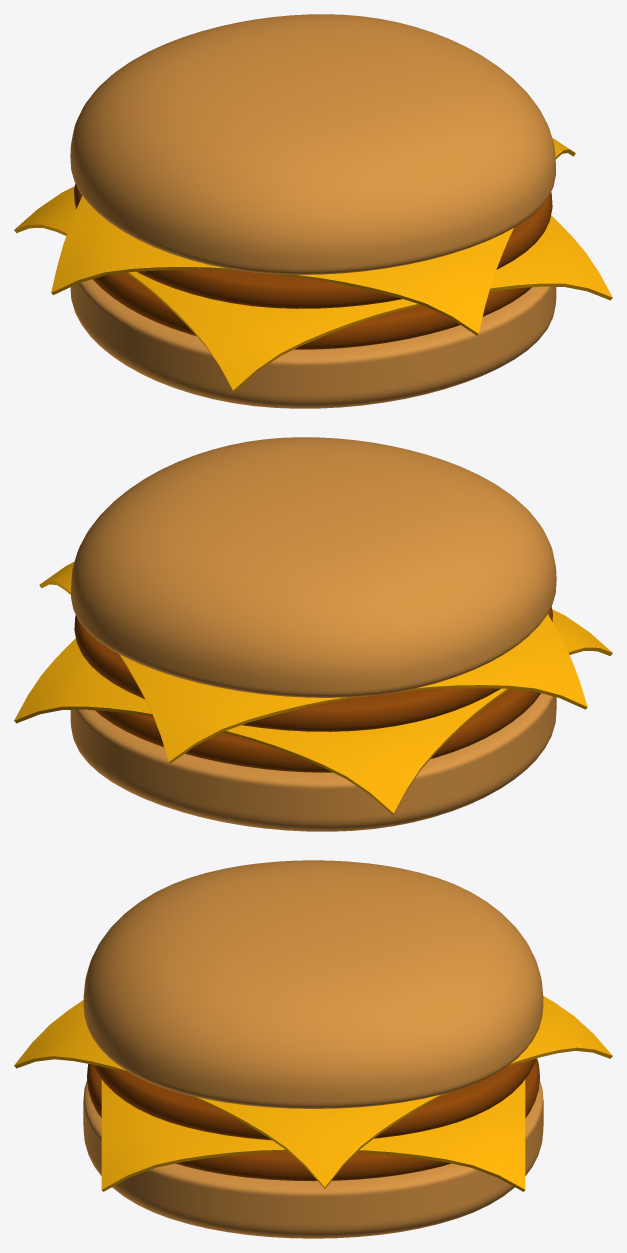
Rendered from hamburger.glb.
3 views of the same model, one above another, from view 1: azimuth 30°, elevation 25°; view 2: azimuth 150°, elevation 25°; view 3: azimuth 270°, elevation 25° (orthographic). The views are drawn at different scales.
Visible parts, largest first — view 1: Cube.002, Cube, Plane, Plane.001, Cube.003, Cube.001; view 2: Cube.002, Cube, Plane, Plane.001, Cube.003, Cube.001; view 3: Cube.002, Cube, Plane, Plane.001, Cube.003, Cube.001.
Part boxes in pixels (box(x1,y1,x2,y2)): Cube.002: box(70, 14, 555, 274); Cube: box(70, 279, 556, 408); Plane: box(14, 186, 612, 391); Plane.001: box(51, 138, 575, 335); Cube.003: box(74, 183, 552, 308); Cube.001: box(92, 272, 531, 349); Cube.002: box(71, 437, 556, 697); Cube: box(70, 693, 556, 831); Plane: box(14, 609, 612, 814); Plane.001: box(39, 561, 587, 763); Cube.003: box(74, 606, 552, 731); Cube.001: box(95, 689, 540, 772); Cube.002: box(83, 860, 543, 1108); Cube: box(83, 1080, 543, 1238); Plane: box(101, 1079, 525, 1191); Plane.001: box(14, 996, 612, 1188); Cube.003: box(93, 1058, 535, 1140); Cube.001: box(87, 1058, 539, 1181).
Size of the model in its own units: 11.93 by 5.58 by 11.93.
